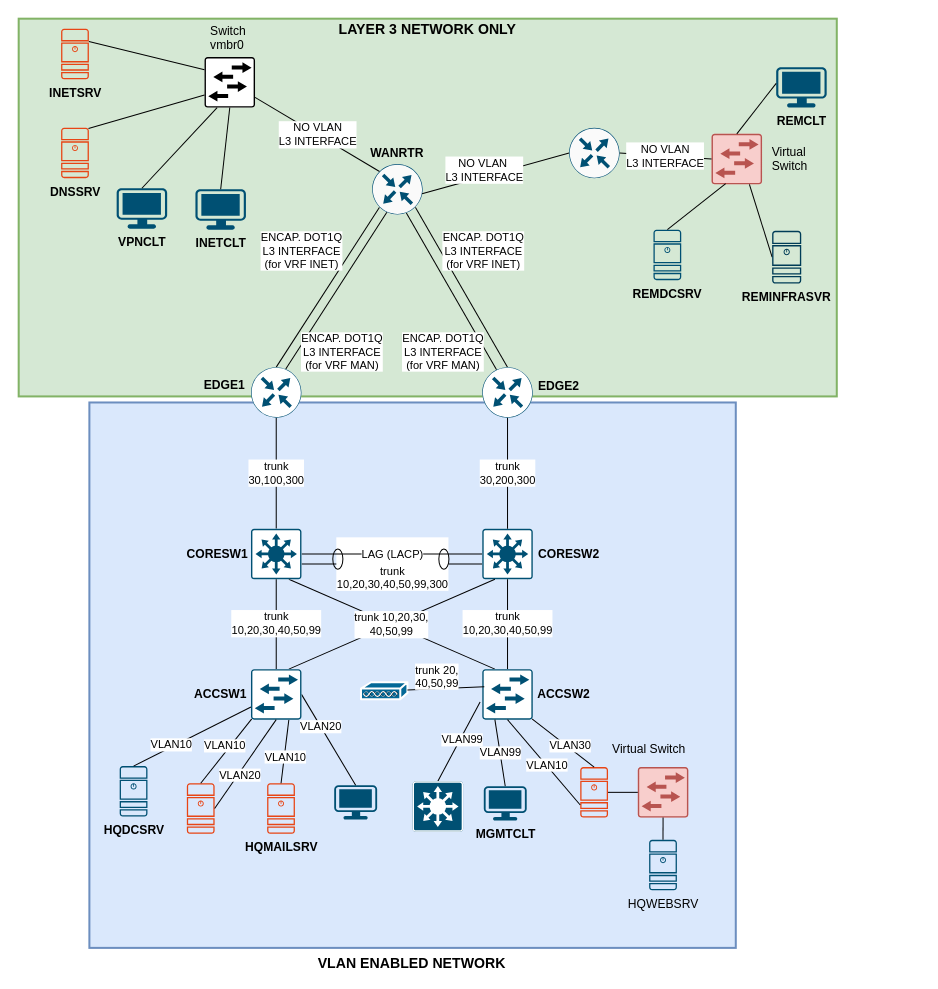
This 938x989 diagram has some shape labels left out. Here are the shapes that lost their labels. From the top down, the centre of each, then its label:
point (594, 152): REMFW
point (383, 690): AP
point (200, 808): HQINFRASRV
point (355, 802): HQCLT
point (437, 806): WLC Cisco 9800
point (594, 792): HQFW
